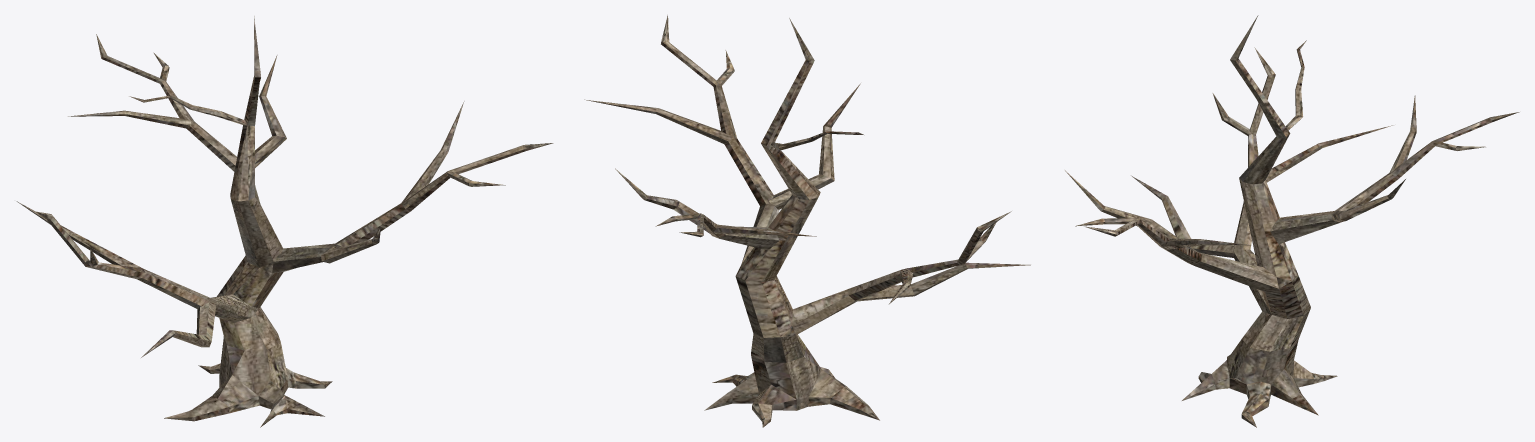
Rendered from tree.obj.
The picture shows the model from 3 angles, left to right: view 1: azimuth 30°, elevation 25°; view 2: azimuth 150°, elevation 25°; view 3: azimuth 270°, elevation 25°; orthographic projection. The views are drawn at different scales.
Visible parts, largest first — view 1: object; view 2: object; view 3: object.
Part boxes in pixels (x1,y1,x2,y2): object: (16, 16, 553, 427); object: (584, 15, 1030, 427); object: (1065, 15, 1519, 427).
Size of the model in its own units: 1.38 by 1.18 by 1.3.
1 material, 1 textured.
